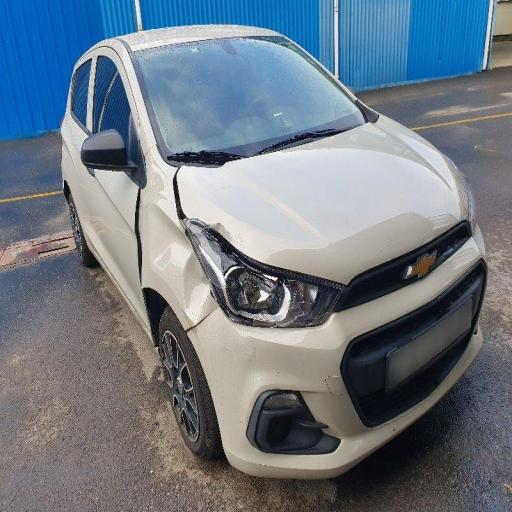broken: (124, 140, 253, 379)
